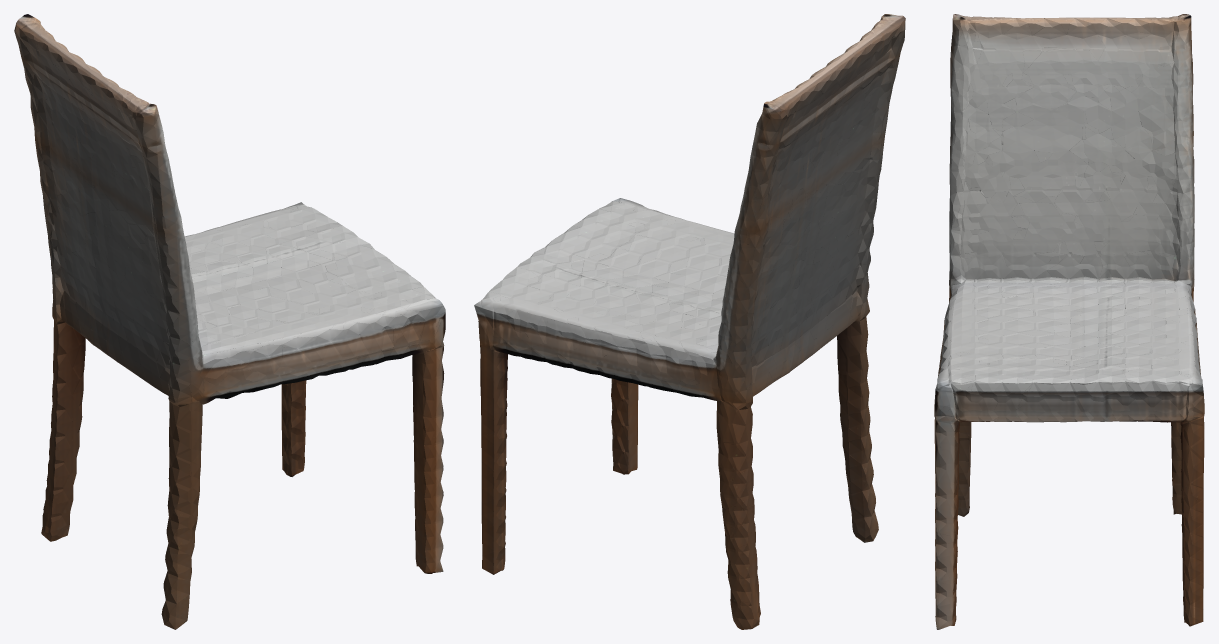
The model's file is elem_94_115_131_206_6_6.obj.
3 views of the same model, side by side, from view 1: azimuth 30°, elevation 25°; view 2: azimuth 150°, elevation 25°; view 3: azimuth 270°, elevation 25° (orthographic). The views are drawn at different scales.
Size of the model in its own units: 0.4281 by 0.7115 by 0.3577.
1 material, 1 textured.
